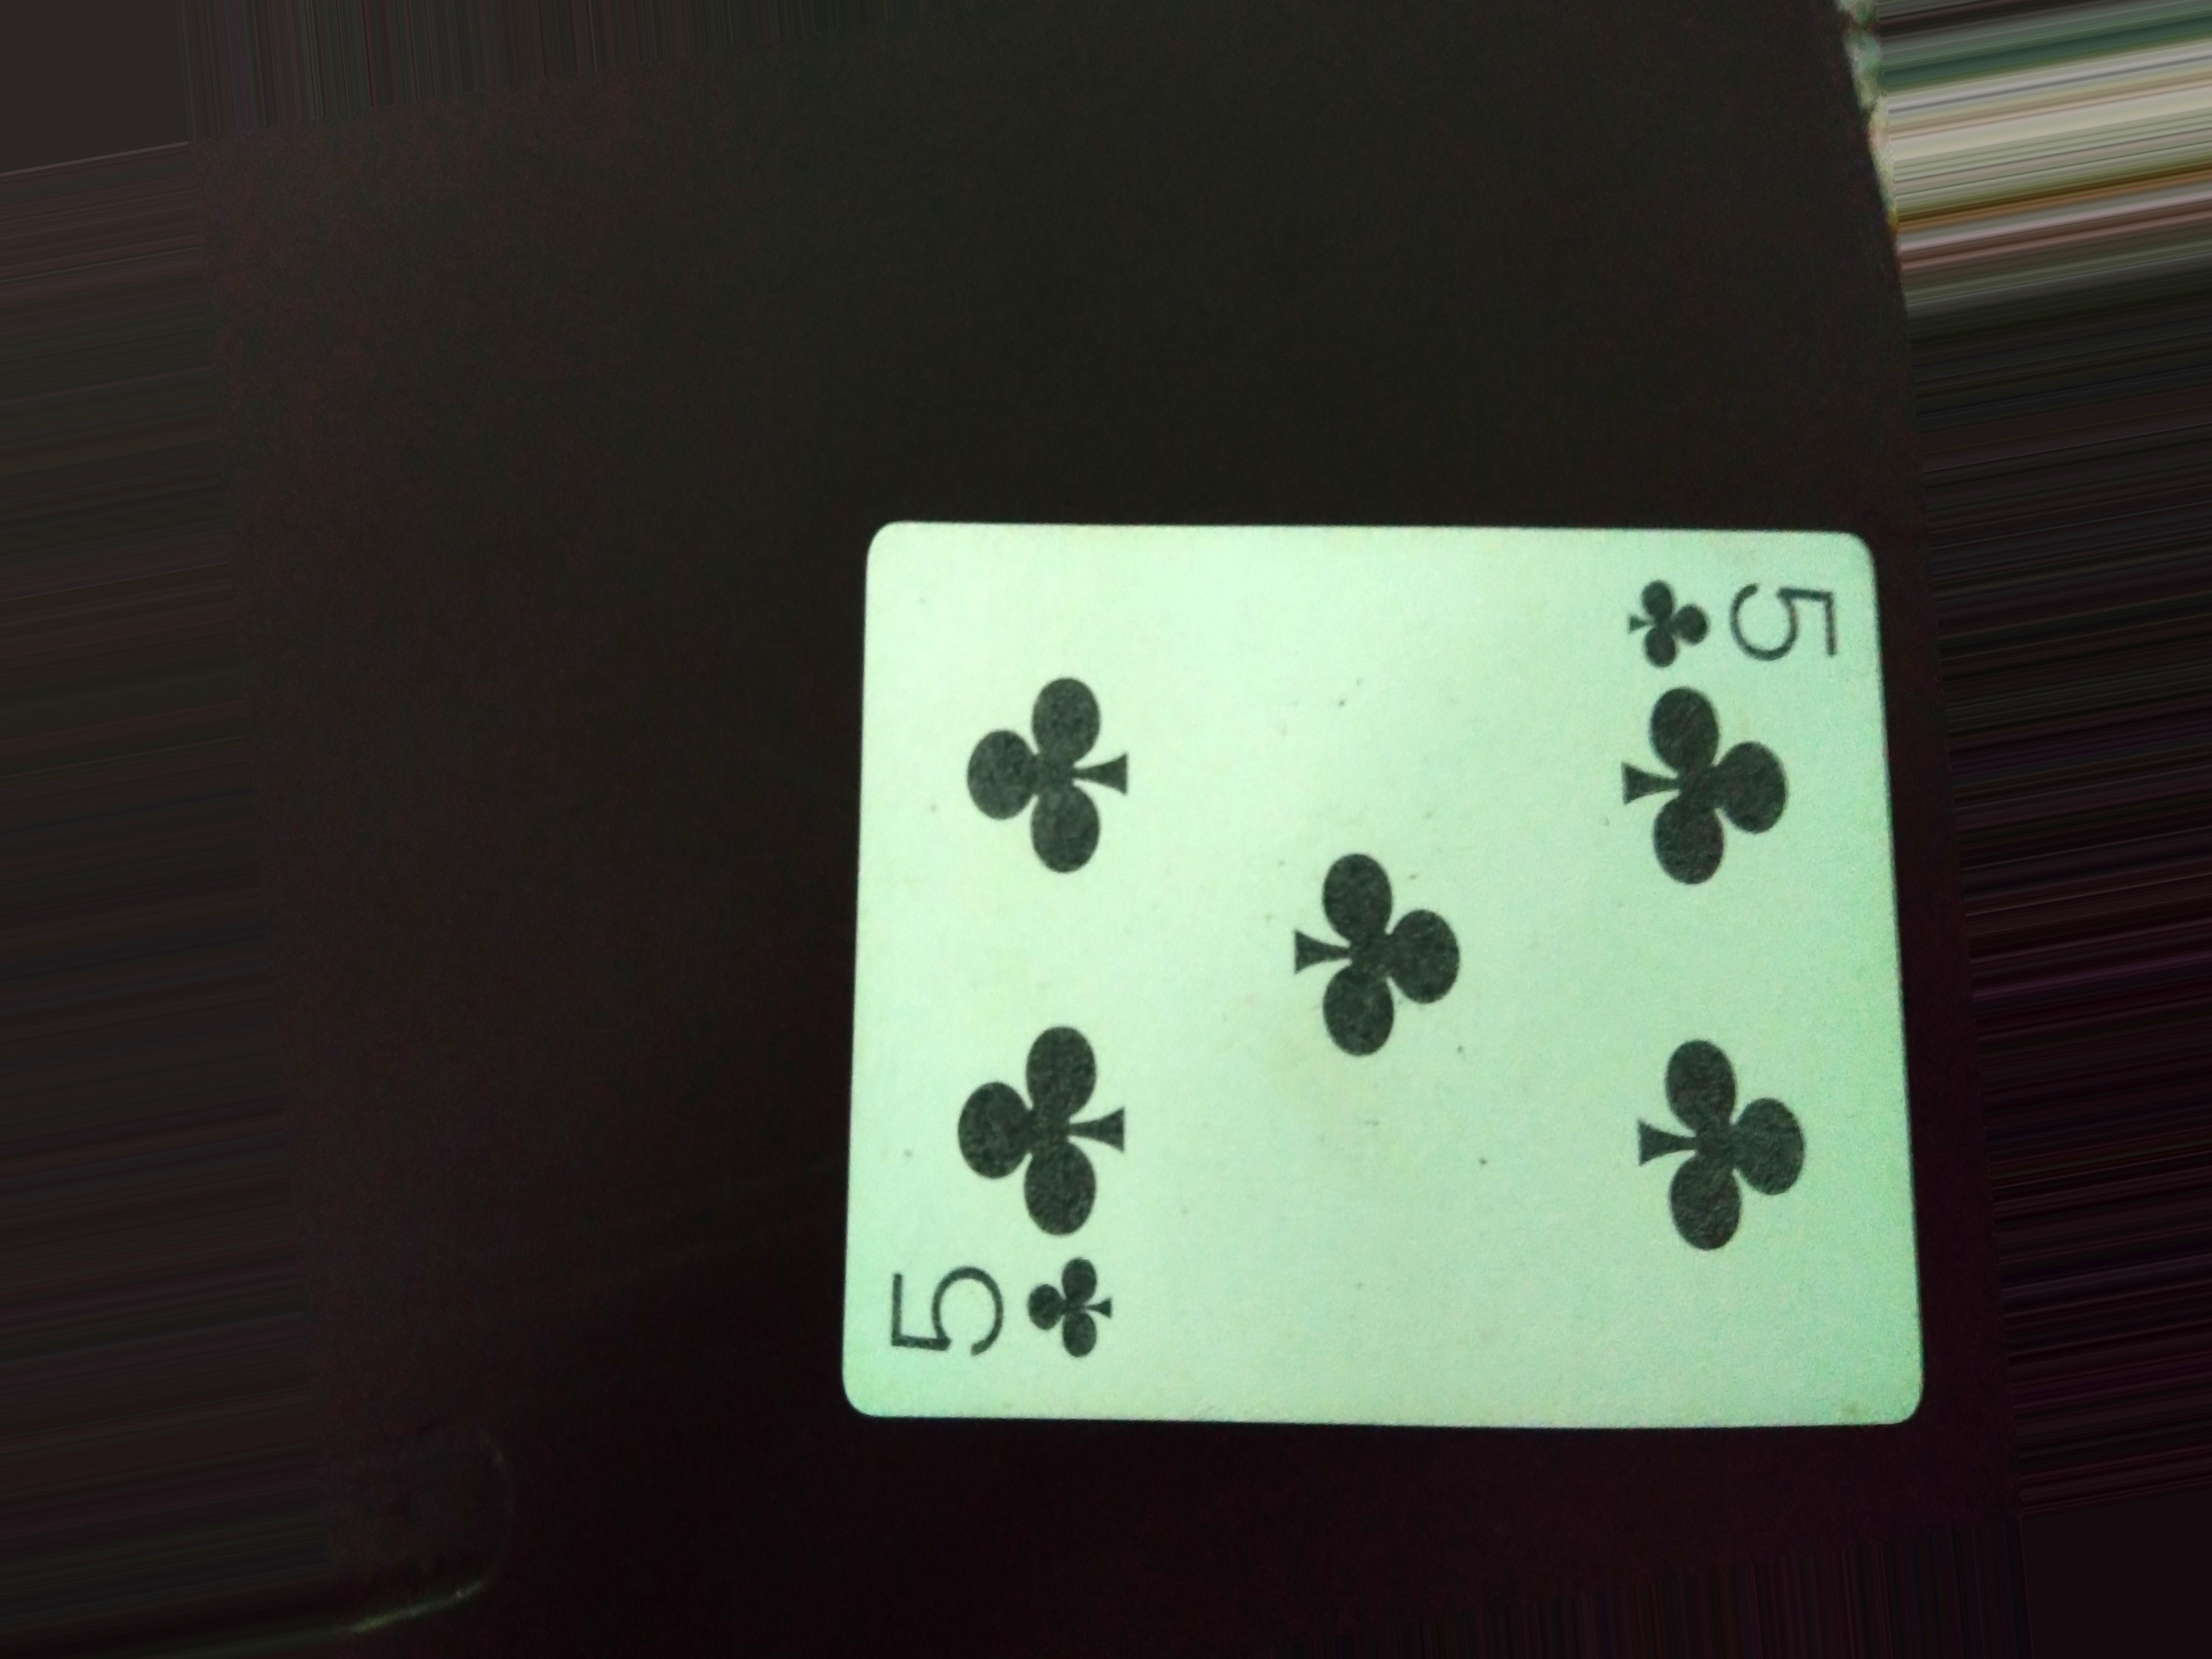5C: (850, 1246, 1163, 1380)
